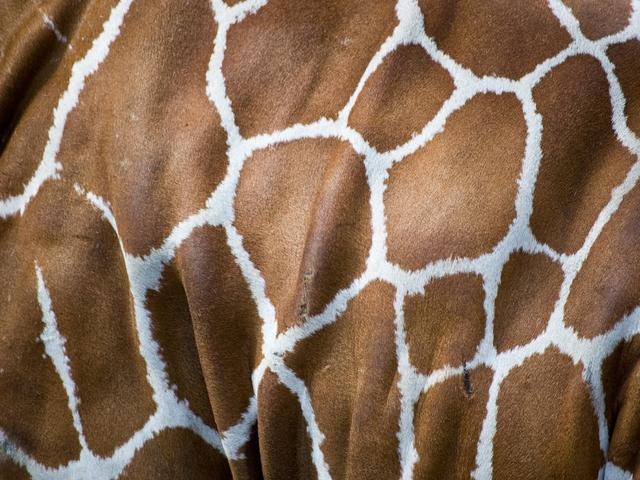giraffe: (6, 13, 640, 414)
